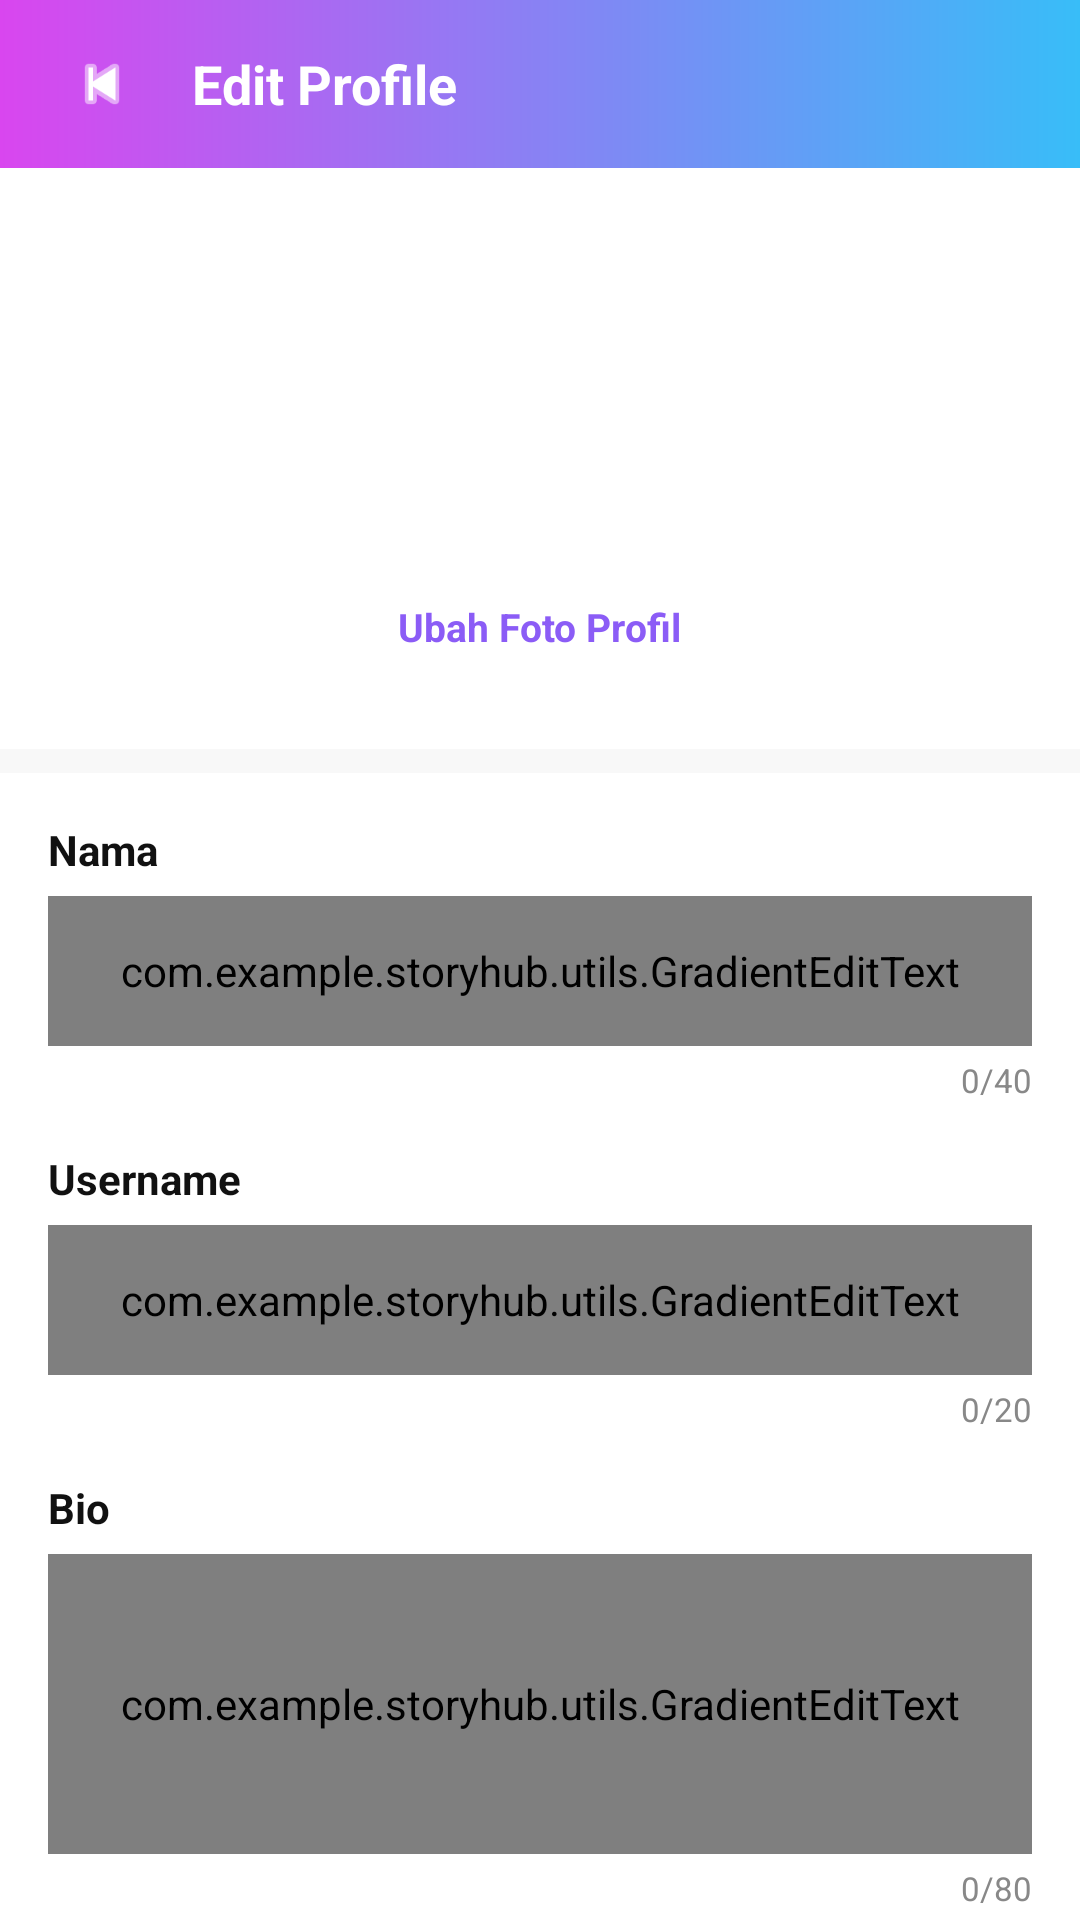

Screen size 1080x1920. Icon name, then its center in pixels as (x=x, y=y):
previous: (x=102, y=84)
